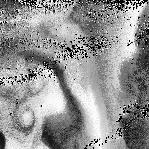CE: (10, 100, 42, 135)
